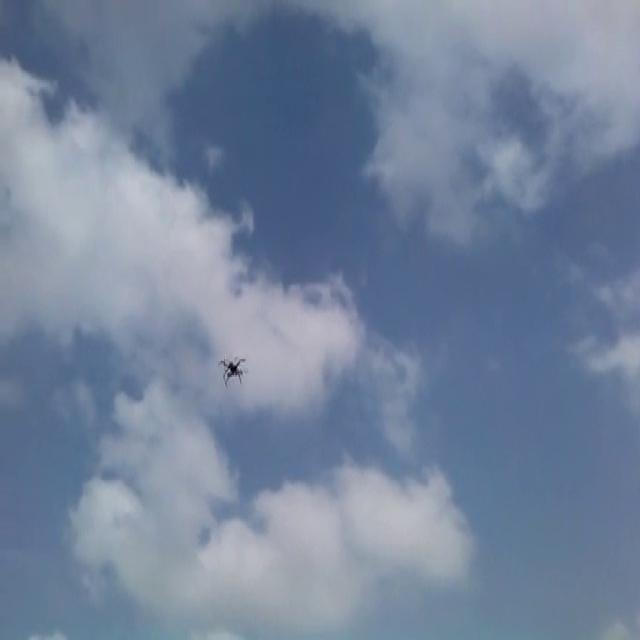drone: (215, 348, 251, 388)
